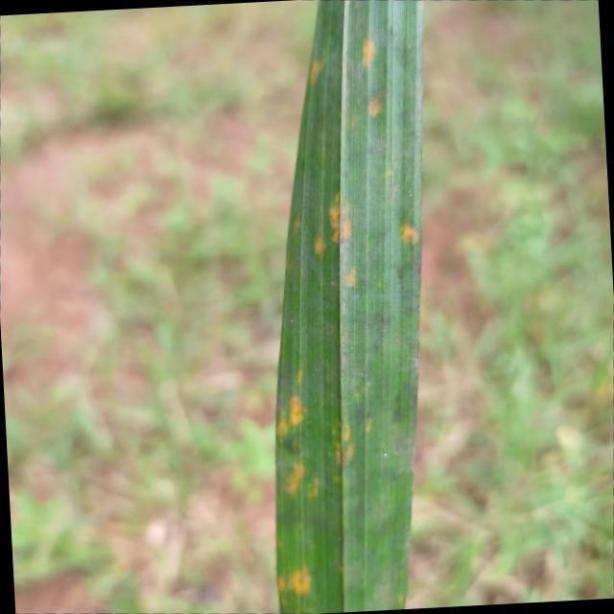Kalium: (275, 0, 422, 614)
